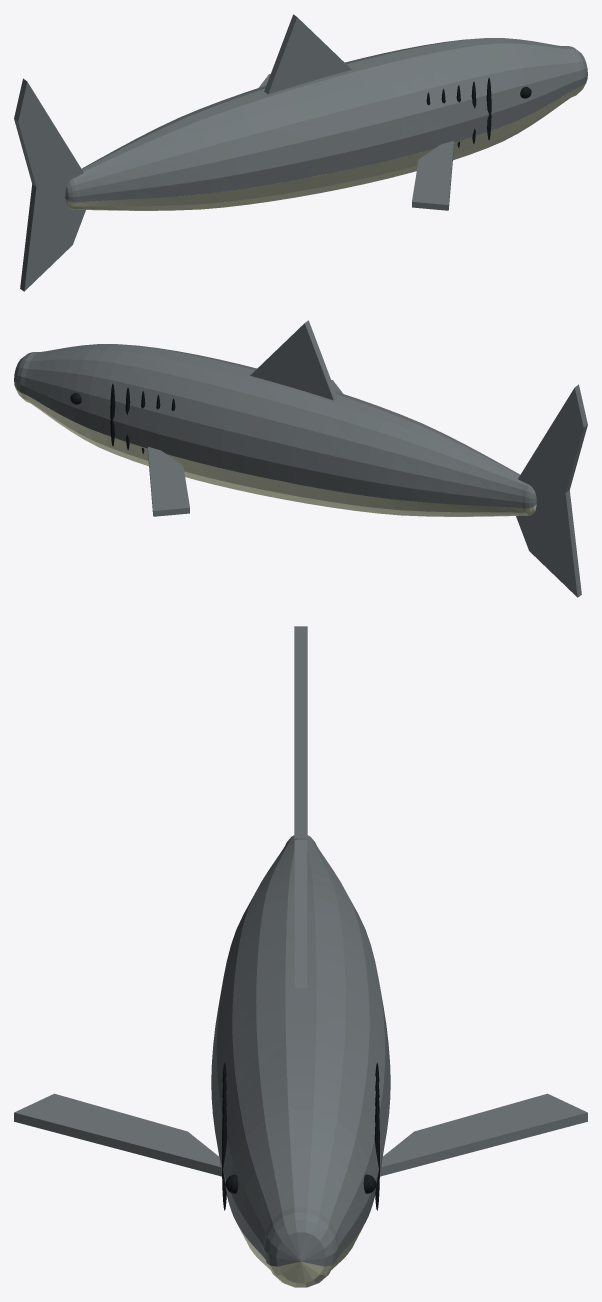
The model's file is basking-shark.dae.
3 views of the same model, one above another, from view 1: azimuth 30°, elevation 25°; view 2: azimuth 150°, elevation 25°; view 3: azimuth 270°, elevation 25° (orthographic). The views are drawn at different scales.
Visible parts, largest first — view 1: part2-node, part1-node, part0-node; view 2: part2-node, part1-node, part0-node; view 3: part2-node, part0-node, part1-node.
Part boxes in pixels (<box>): part2-node: <box>14,14,587,291</box>; part1-node: <box>65,80,586,210</box>; part0-node: <box>426,77,531,147</box>; part2-node: <box>14,320,587,597</box>; part1-node: <box>15,386,536,516</box>; part0-node: <box>70,383,175,453</box>; part2-node: <box>14,626,587,1266</box>; part0-node: <box>222,1062,379,1210</box>; part1-node: <box>239,1227,362,1287</box>.
Size of the model in its own units: 8 by 4.37 by 2.82.
